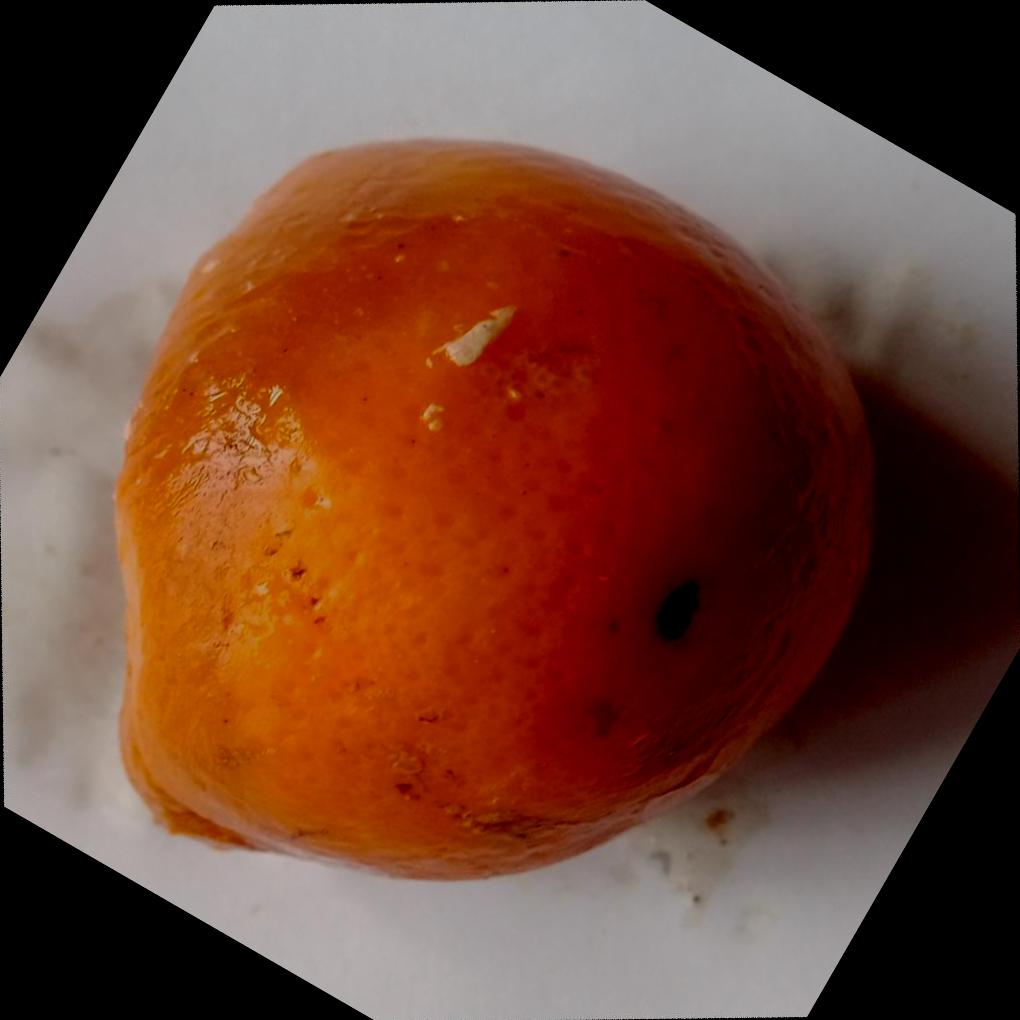FreshOrange: (112, 132, 881, 879)
